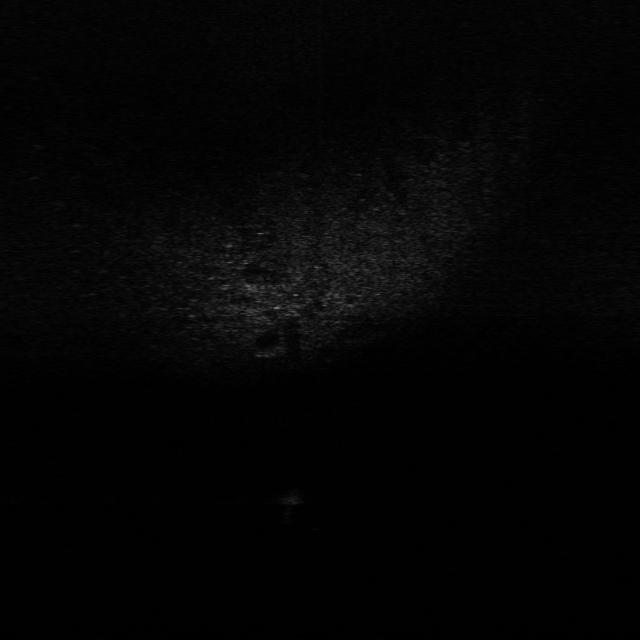cylinder: (276, 487, 303, 515)
